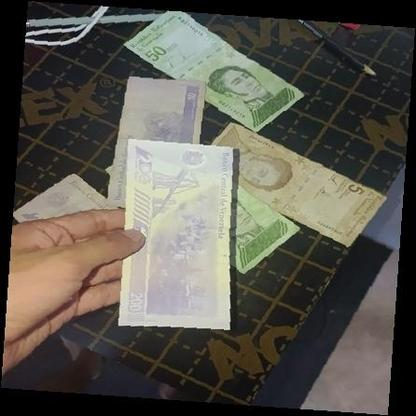fifty-front-vef: (122, 12, 306, 131), (234, 177, 300, 274)
five-front-vef: (202, 123, 389, 247)
ten-back-vef: (108, 76, 206, 206), (13, 172, 123, 256)
two_hundred-back-vef: (116, 142, 233, 330)
